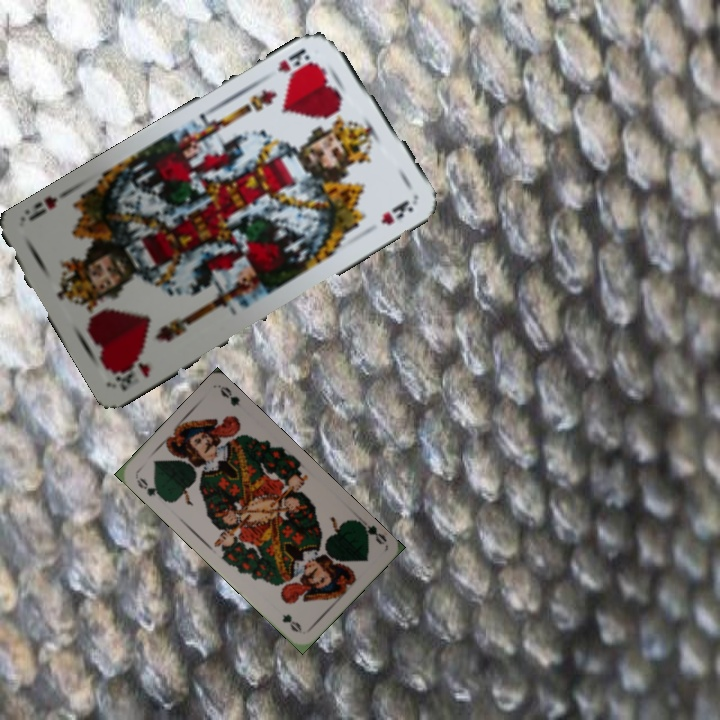GO: (352, 513, 389, 547), (132, 474, 167, 502)
HK: (111, 355, 154, 393), (273, 44, 313, 76)
